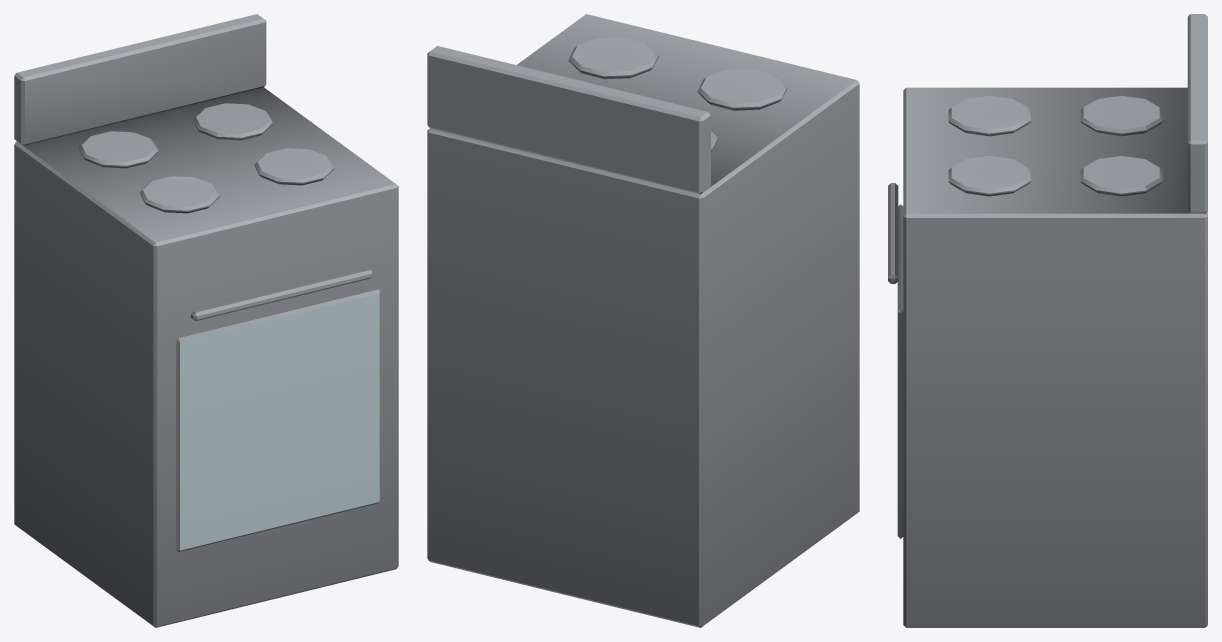
The model's file is stove.glb.
3 views of the same model, side by side, from view 1: azimuth 30°, elevation 25°; view 2: azimuth 150°, elevation 25°; view 3: azimuth 270°, elevation 25° (orthographic). The views are drawn at different scales.
Visible parts, largest first — view 1: stove; view 2: stove; view 3: stove.
Boxes of the visible parts, box(x1,y1,x2,y2) form: stove: box(14, 14, 398, 627); stove: box(427, 14, 859, 627); stove: box(888, 14, 1207, 627).
Size of the model in its own units: 0.6 by 1.06 by 0.63.
